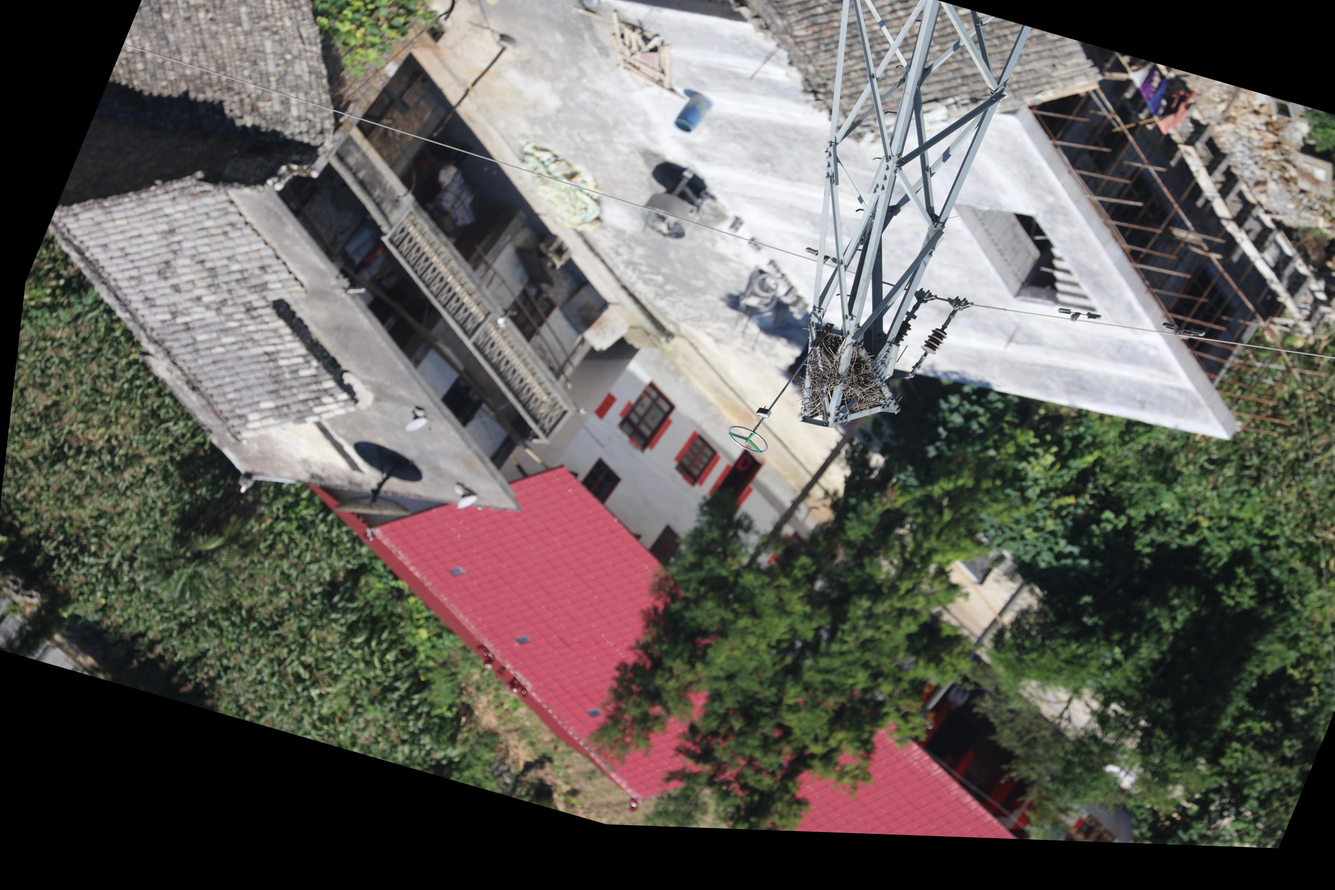damper: (1155, 317, 1210, 346), (1052, 301, 1105, 331), (797, 244, 848, 272)
